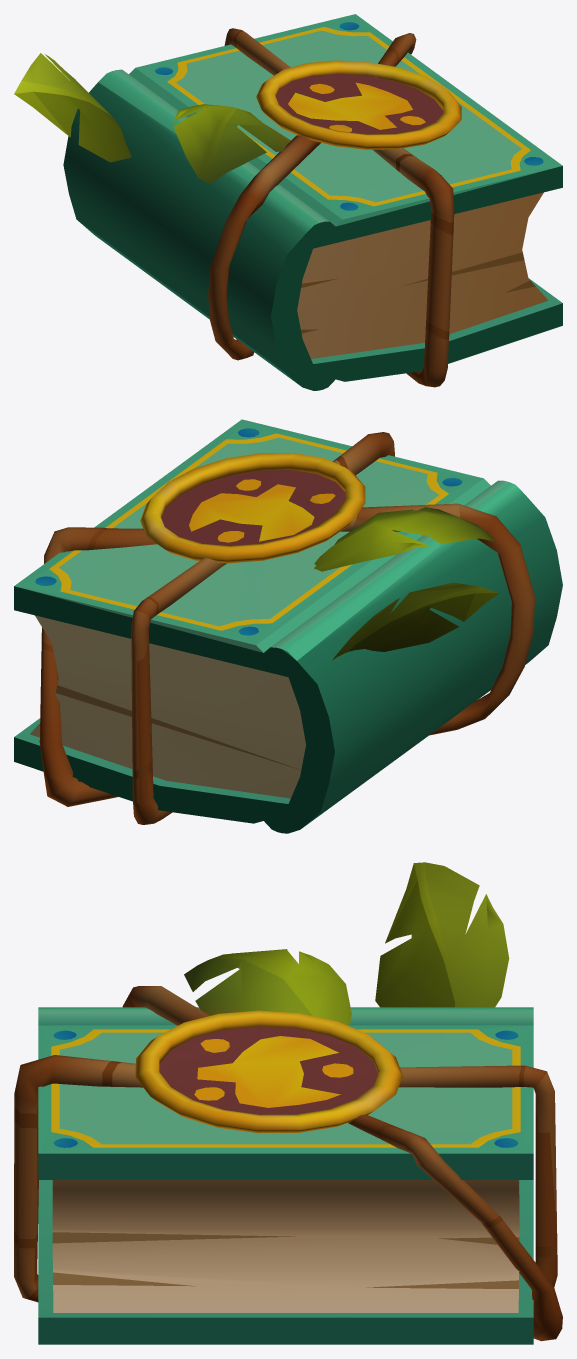
The model's file is book.fbx.
3 renders of one model, top to bottom at view 1: azimuth 30°, elevation 25°; view 2: azimuth 150°, elevation 25°; view 3: azimuth 270°, elevation 25°, orthographic. The views are drawn at different scales.
Visible parts, largest first — view 1: Box001; view 2: Box001; view 3: Box001.
Boxes of the visible parts, bbox=[...] form: Box001: bbox=[14, 14, 562, 390]; Box001: bbox=[14, 419, 562, 833]; Box001: bbox=[14, 862, 562, 1344].
Bounding box in the file's own units: 36.14 × 21.63 × 35.51.
